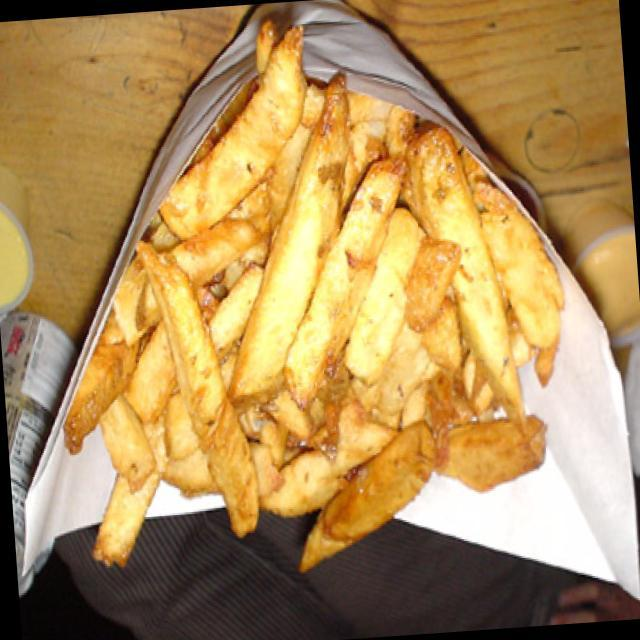French Fries: (60, 56, 586, 597)
